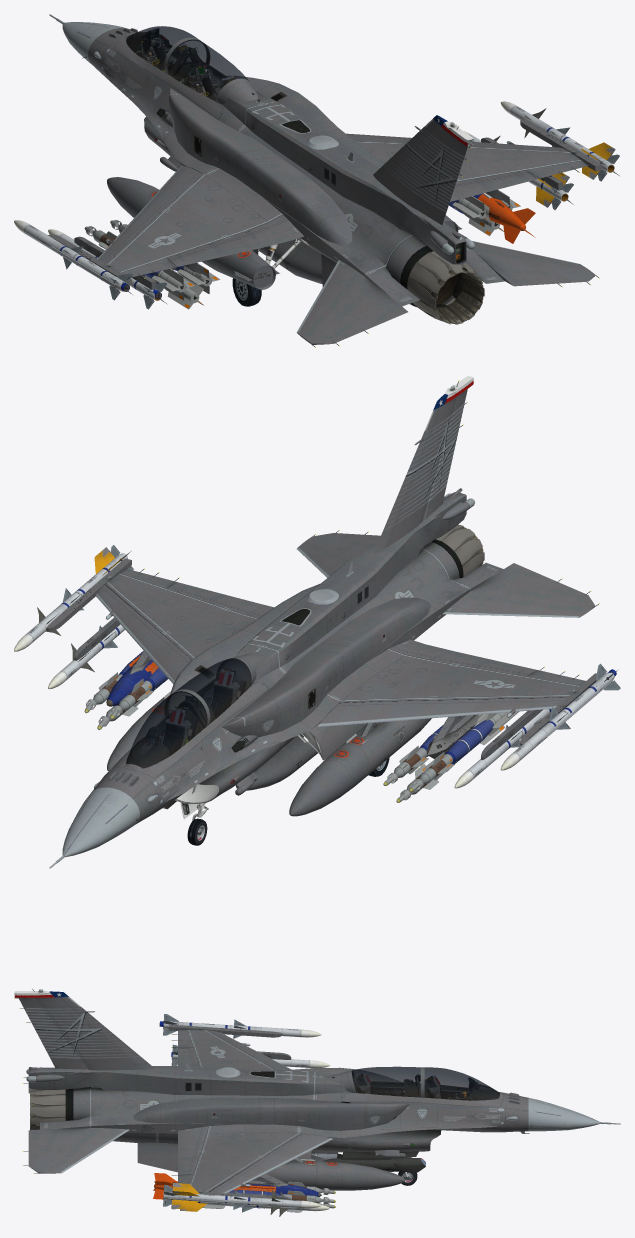
The model's file is f-16d-block-60.glb.
The picture shows the model from 3 angles, top to bottom: view 1: azimuth 30°, elevation 25°; view 2: azimuth 150°, elevation 25°; view 3: azimuth 270°, elevation 25°; orthographic projection. The views are drawn at different scales.
Parts seen in each view (by area): view 1: Object_7, Object_4, Object_23, Object_6, Object_17, Object_8, Object_19, Object_18, Object_10, Object_9, Object_5, Object_12; view 2: Object_4, Object_7, Object_17, Object_8, Object_23, Object_6, Object_19, Object_18, Object_10, Object_5, Object_11; view 3: Object_7, Object_4, Object_17, Object_23, Object_8, Object_6, Object_19, Object_5, Object_10, Object_18.
Boxes of the visible parts, box(x1,y1,x2,y2) form: Object_7: box(168, 76, 474, 264); Object_4: box(97, 126, 599, 347); Object_23: box(296, 115, 595, 344); Object_6: box(48, 98, 602, 324); Object_17: box(14, 101, 619, 309); Object_8: box(62, 22, 258, 166); Object_19: box(108, 26, 575, 266); Object_18: box(88, 189, 520, 307); Object_10: box(126, 29, 234, 101); Object_9: box(160, 47, 300, 306); Object_5: box(49, 14, 416, 306); Object_12: box(135, 35, 220, 95); Object_4: box(95, 380, 599, 726); Object_7: box(169, 488, 474, 737); Object_17: box(14, 545, 620, 816); Object_8: box(62, 654, 323, 857); Object_23: box(297, 376, 595, 617); Object_6: box(46, 524, 596, 745); Object_19: box(108, 385, 575, 783); Object_18: box(84, 651, 507, 796); Object_10: box(126, 668, 246, 768); Object_5: box(49, 573, 463, 868); Object_11: box(187, 731, 321, 845); Object_7: box(26, 1064, 409, 1130); Object_4: box(14, 989, 332, 1193); Object_17: box(153, 1014, 425, 1216); Object_23: box(14, 990, 154, 1173); Object_8: box(325, 1067, 600, 1138); Object_6: box(30, 1024, 327, 1198); Object_19: box(38, 989, 499, 1192); Object_5: box(65, 1119, 620, 1171); Object_10: box(353, 1073, 499, 1100); Object_18: box(202, 1155, 335, 1212).
Size of the model in its own units: 9.74 by 5.99 by 14.
18 materials, 18 textured.
